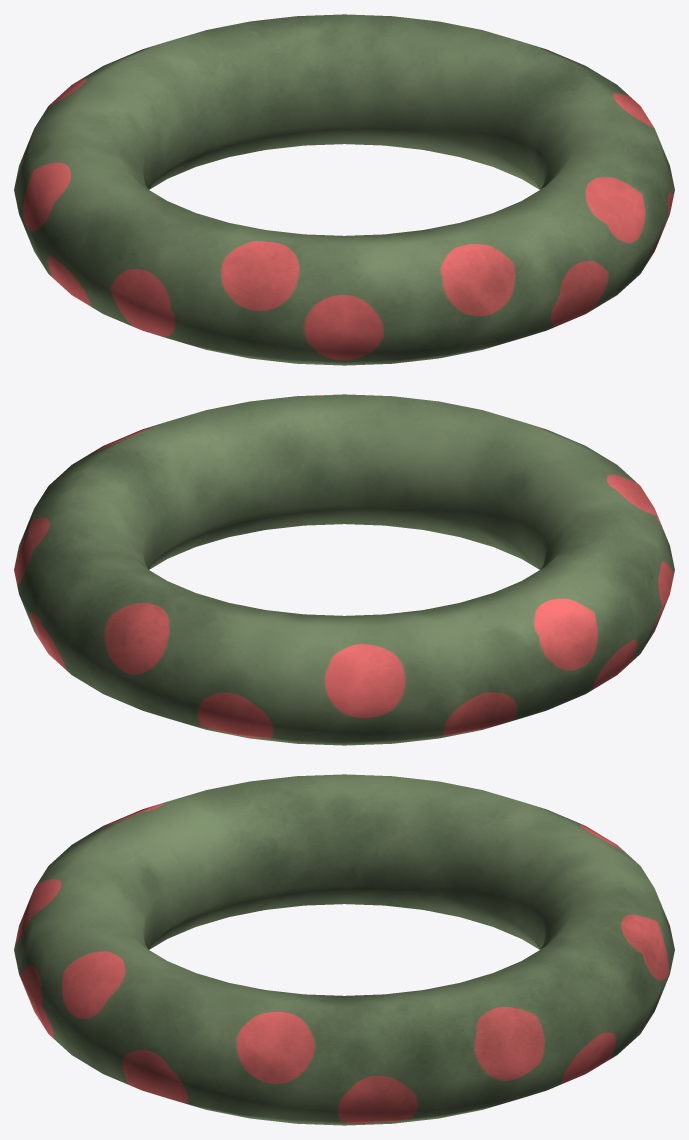
The model's file is Boia.fbx.
3 views of the same model, one above another, from view 1: azimuth 30°, elevation 25°; view 2: azimuth 150°, elevation 25°; view 3: azimuth 270°, elevation 25° (orthographic).
Parts seen in each view (by area): view 1: Boia; view 2: Boia; view 3: Boia.
Part boxes in pixels (x1,y1,x2,y2): Boia: (14, 14, 674, 365); Boia: (14, 394, 674, 745); Boia: (14, 774, 674, 1125).
Bounding box in the file's own units: 73.81 × 14.54 × 73.81.
